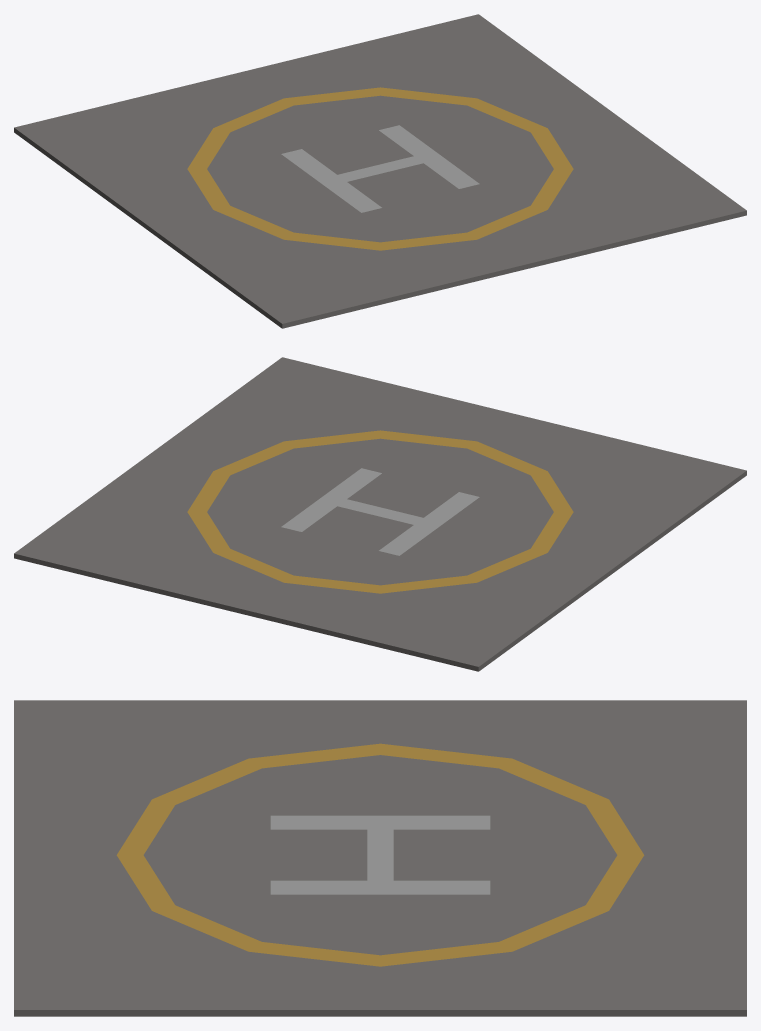
File: SM_Envr_Airport_Apron_Helipad.fbx
3 views of the same model, one above another, from view 1: azimuth 30°, elevation 25°; view 2: azimuth 150°, elevation 25°; view 3: azimuth 270°, elevation 25° (orthographic). The views are drawn at different scales.
Visible parts, largest first — view 1: SM_Envr_Airport_Apron_Helipad; view 2: SM_Envr_Airport_Apron_Helipad; view 3: SM_Envr_Airport_Apron_Helipad.
Part boxes in pixels (bbox=[...]): SM_Envr_Airport_Apron_Helipad: bbox=[14, 14, 746, 328]; SM_Envr_Airport_Apron_Helipad: bbox=[14, 357, 746, 671]; SM_Envr_Airport_Apron_Helipad: bbox=[14, 700, 746, 1016].
Bounding box in the file's own units: 1000 × 10 × 1000.
